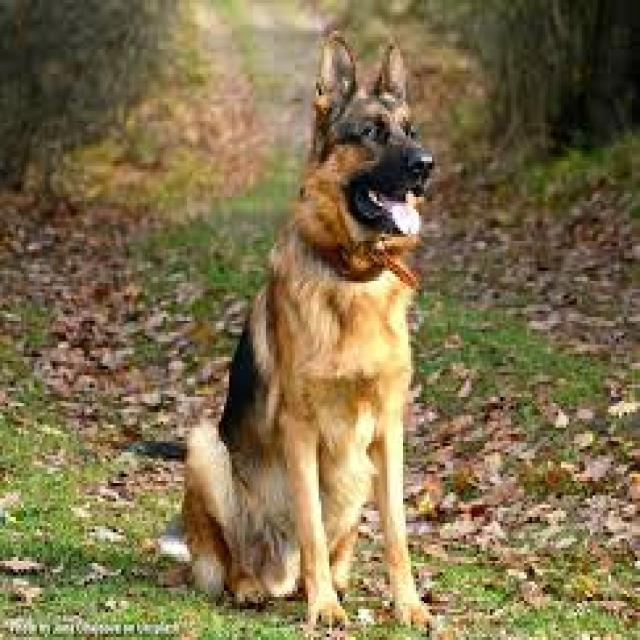GERMAN_SHEPHERD: (152, 31, 454, 631)
